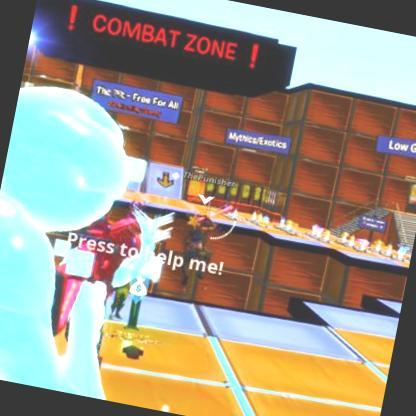person: (175, 214, 223, 282)
